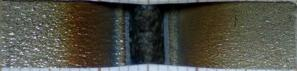soldas: (66, 1, 202, 67)
